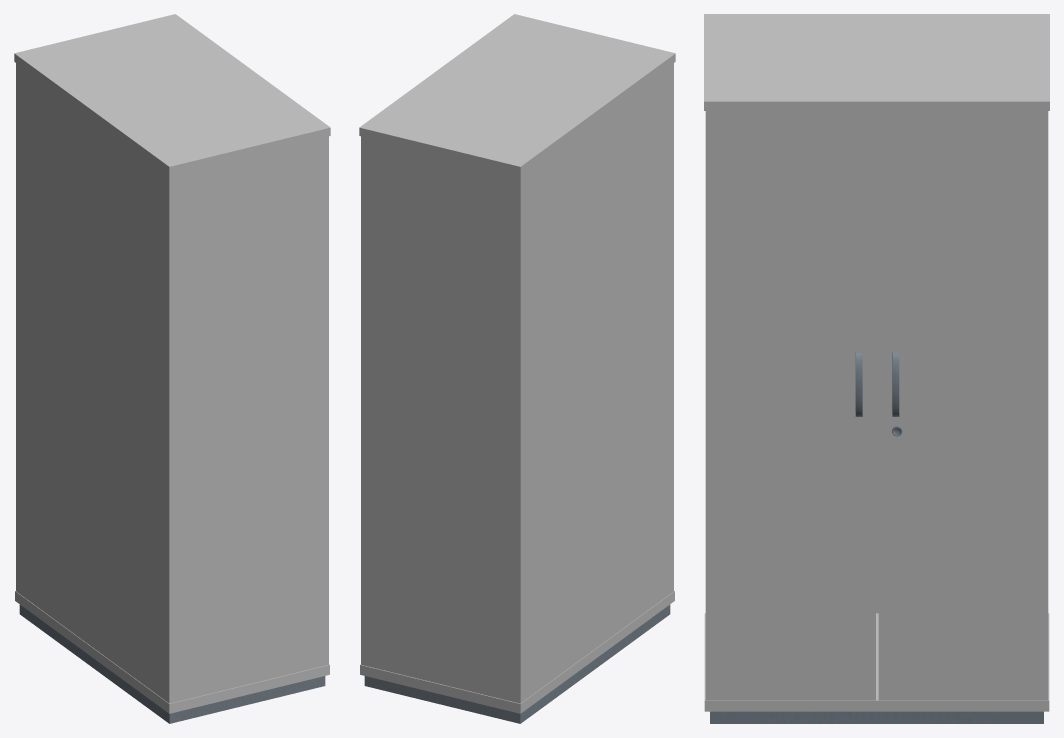
Rendered from Schrank.fbx.
3 renders of one model, left to right at view 1: azimuth 30°, elevation 25°; view 2: azimuth 150°, elevation 25°; view 3: azimuth 270°, elevation 25°, orthographic. The views are drawn at different scales.
Parts seen in each view (by area): view 1: schrank; view 2: schrank; view 3: schrank.
Part boxes in pixels (x1,y1,x2,y2): schrank: (14, 14, 330, 723); schrank: (359, 14, 675, 723); schrank: (704, 14, 1049, 723).
Bounding box in the file's own units: 63.68 × 201 × 101.
